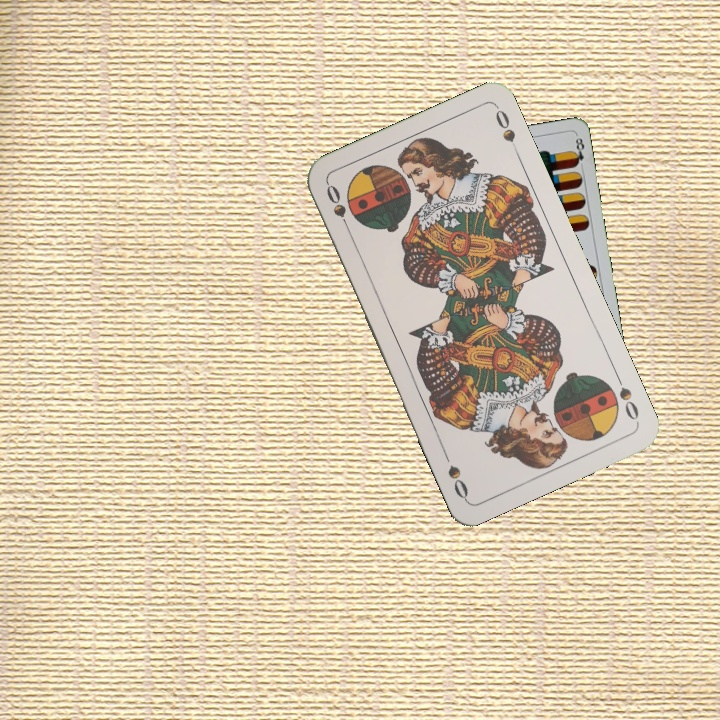SO: (322, 180, 354, 236), (611, 369, 642, 423)
